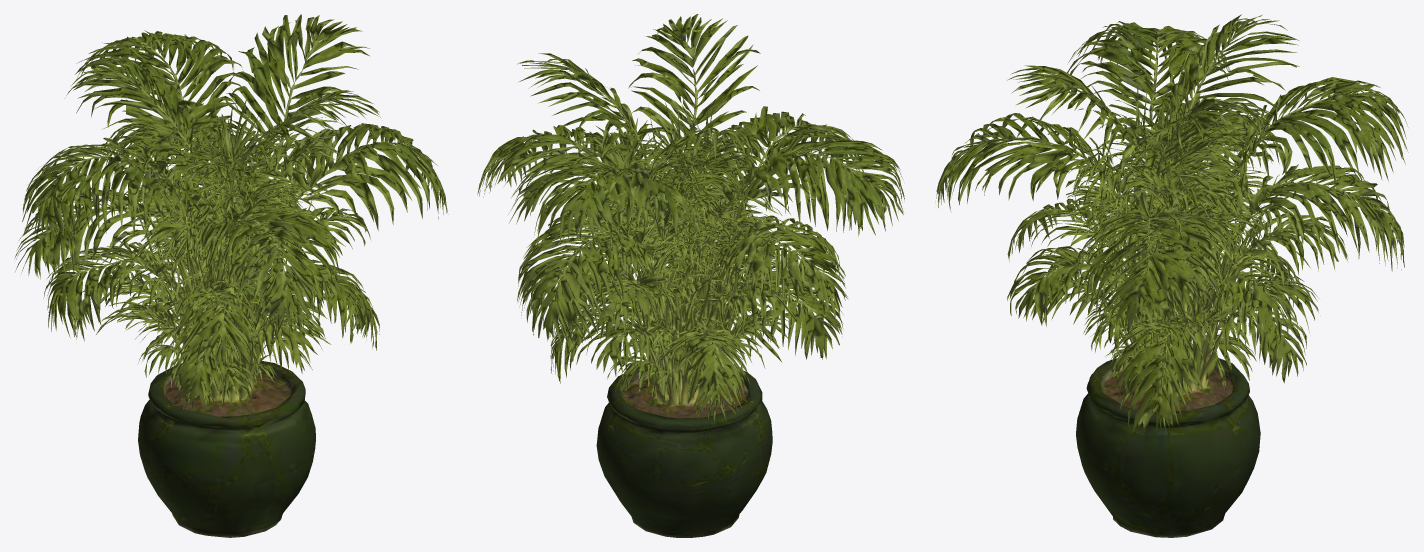
File: palm.glb
The picture shows the model from 3 angles, left to right: view 1: azimuth 30°, elevation 25°; view 2: azimuth 150°, elevation 25°; view 3: azimuth 270°, elevation 25°; orthographic projection. The views are drawn at different scales.
Bounding box in the file's own units: 1.79 × 1.9 × 1.76.
Materials: 1 (1 with a texture image).
